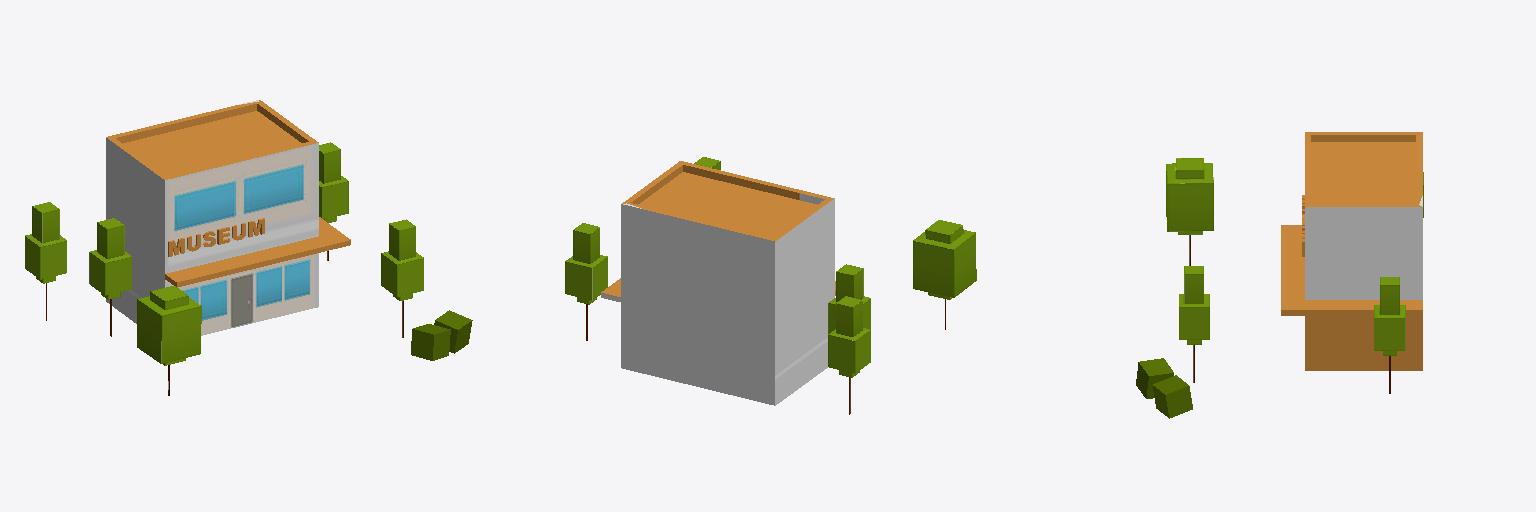
3 views of the same model, side by side, from view 1: azimuth 30°, elevation 25°; view 2: azimuth 150°, elevation 25°; view 3: azimuth 270°, elevation 25° (orthographic).
Visible parts, largest first — view 1: service_museum_Mesh.9257, Tree_3_499_2.244_Mesh.9271, Tree_2_3_61.418_Mesh.9284, Tree_2_3_61.407_Mesh.9272, Tree_2_3_61.419_Mesh.9285, Tree_2_3_61.417_Mesh.9283, Cube_51.151_Mesh.9269, Cube_51.152_Mesh.9270; view 2: service_museum_Mesh.9257, Tree_3_499_2.244_Mesh.9271, Tree_2_3_61.419_Mesh.9285, Tree_2_3_61.417_Mesh.9283, Tree_2_3_61.418_Mesh.9284; view 3: service_museum_Mesh.9257, Tree_3_499_2.244_Mesh.9271, Tree_2_3_61.417_Mesh.9283, Tree_2_3_61.407_Mesh.9272, Cube_51.152_Mesh.9270, Cube_51.151_Mesh.9269.
Part boxes in pixels (bbox=[...]): service_museum_Mesh.9257: bbox=[106, 100, 350, 335]; Tree_3_499_2.244_Mesh.9271: bbox=[137, 286, 201, 395]; Tree_2_3_61.418_Mesh.9284: bbox=[89, 218, 131, 336]; Tree_2_3_61.407_Mesh.9272: bbox=[381, 219, 423, 337]; Tree_2_3_61.419_Mesh.9285: bbox=[25, 202, 66, 320]; Tree_2_3_61.417_Mesh.9283: bbox=[319, 142, 348, 260]; Cube_51.151_Mesh.9269: bbox=[411, 324, 450, 360]; Cube_51.152_Mesh.9270: bbox=[434, 310, 472, 353]; service_museum_Mesh.9257: bbox=[601, 161, 835, 405]; Tree_3_499_2.244_Mesh.9271: bbox=[913, 220, 976, 329]; Tree_2_3_61.419_Mesh.9285: bbox=[828, 296, 870, 414]; Tree_2_3_61.417_Mesh.9283: bbox=[565, 223, 607, 340]; Tree_2_3_61.418_Mesh.9284: bbox=[828, 264, 870, 333]; service_museum_Mesh.9257: bbox=[1281, 132, 1422, 370]; Tree_3_499_2.244_Mesh.9271: bbox=[1166, 158, 1213, 265]; Tree_2_3_61.417_Mesh.9283: bbox=[1374, 277, 1405, 393]; Tree_2_3_61.407_Mesh.9272: bbox=[1179, 266, 1209, 382]; Cube_51.152_Mesh.9270: bbox=[1153, 375, 1192, 418]; Cube_51.151_Mesh.9269: bbox=[1136, 358, 1173, 398].
Bounding box in the file's own units: 1.85 × 0.9538 × 1.45.
4 materials, 3 textured.